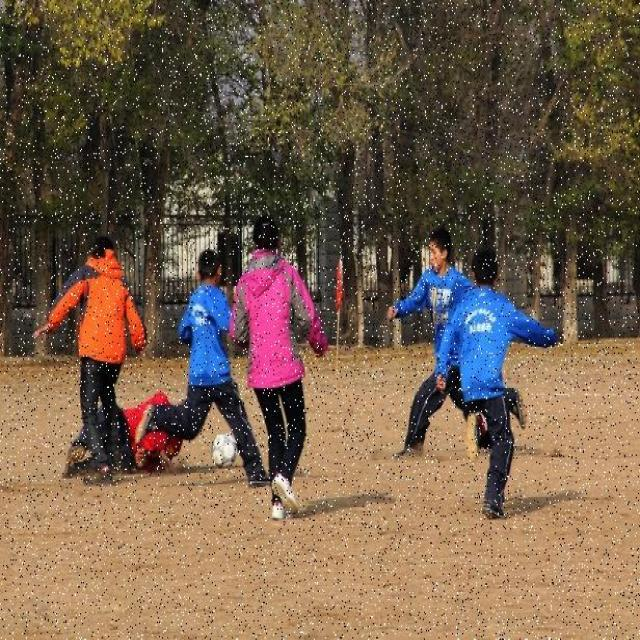fall: (59, 391, 182, 476)
